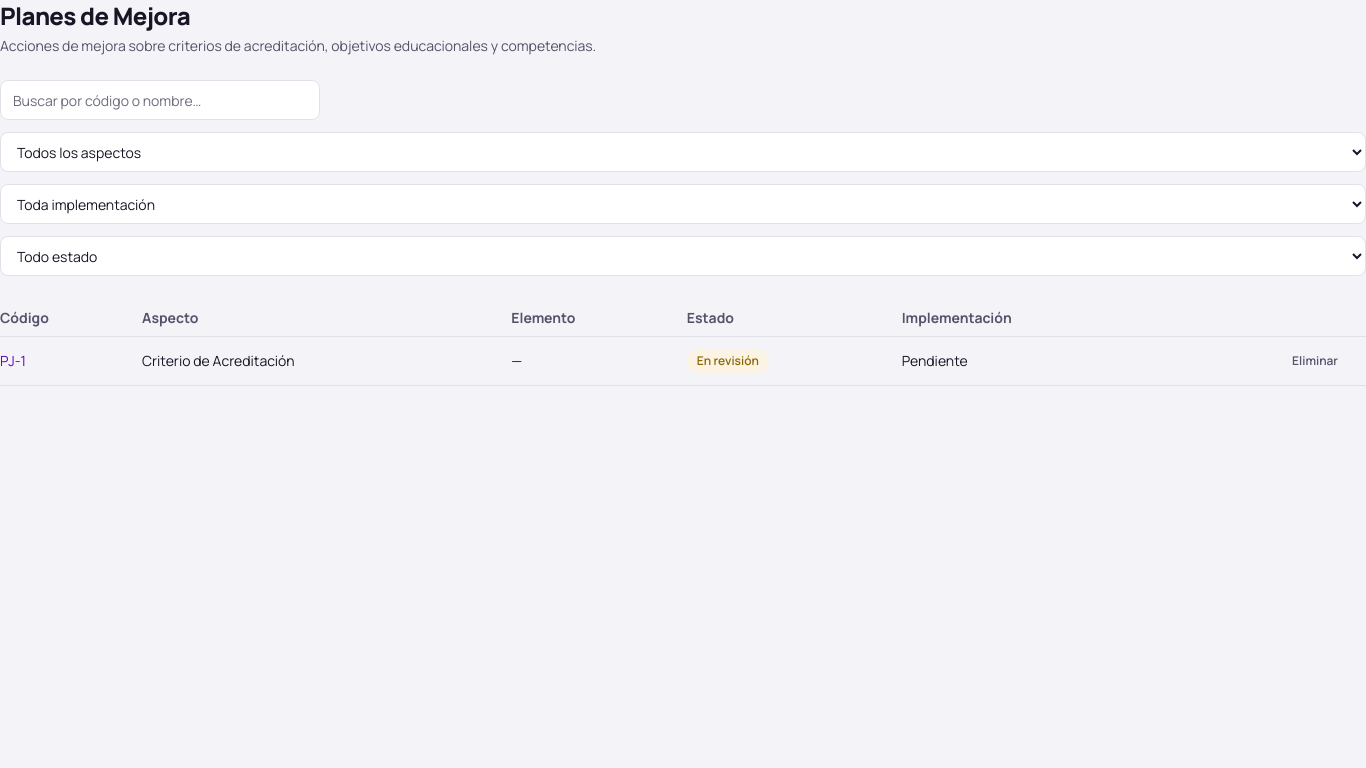
RF-CH-042 — «Eliminar» en el listado › el motivo de un 409 se muestra en el diálogo sin cerrarlo
Click the button with aria-label "Eliminar PJ-1". click: (1315, 361)
box: [1280,345,1350,377]
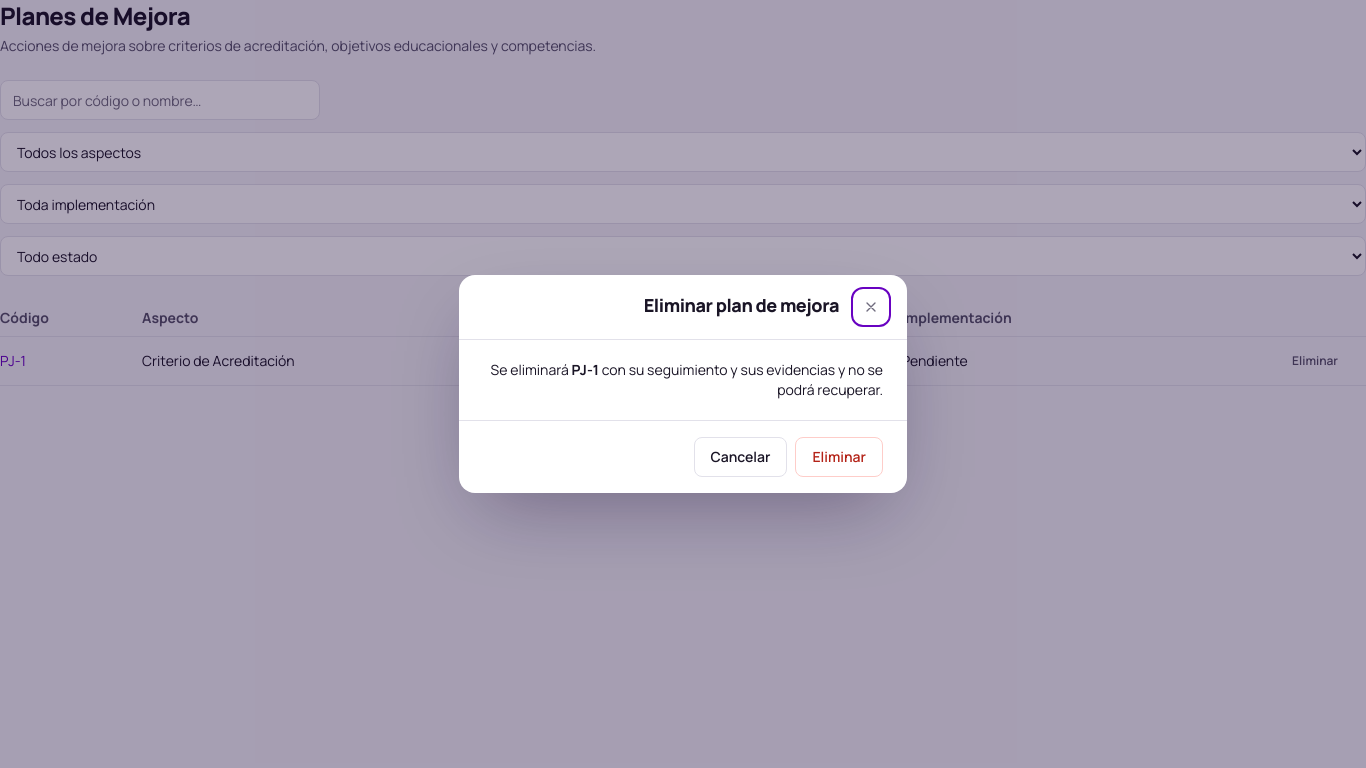
Click the button "Eliminar" below "Se eliminará". click: (839, 457)
box: [795,437,883,477]
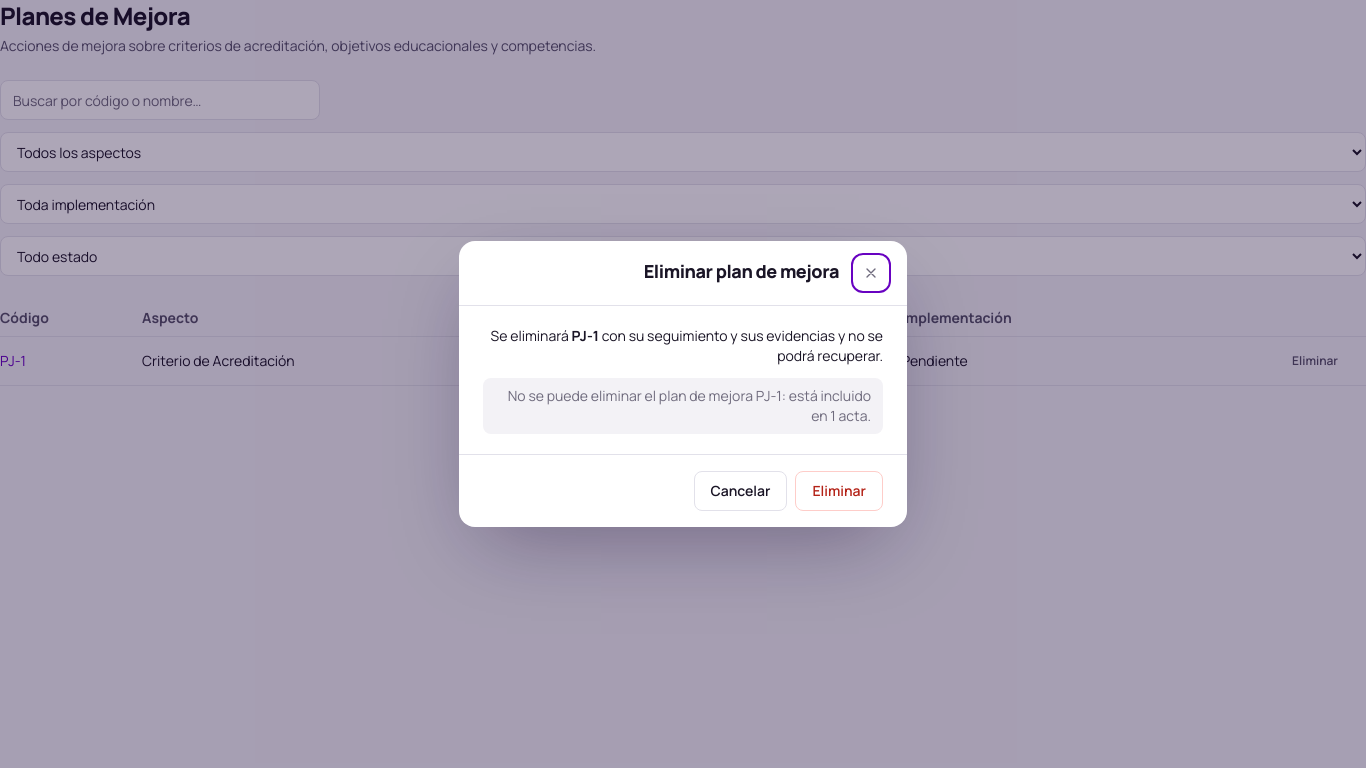
Expected: the dialog is shown, [459,241,907,527]
Expected: the message shows "está incluido en 1 acta", [508,386,871,425]
